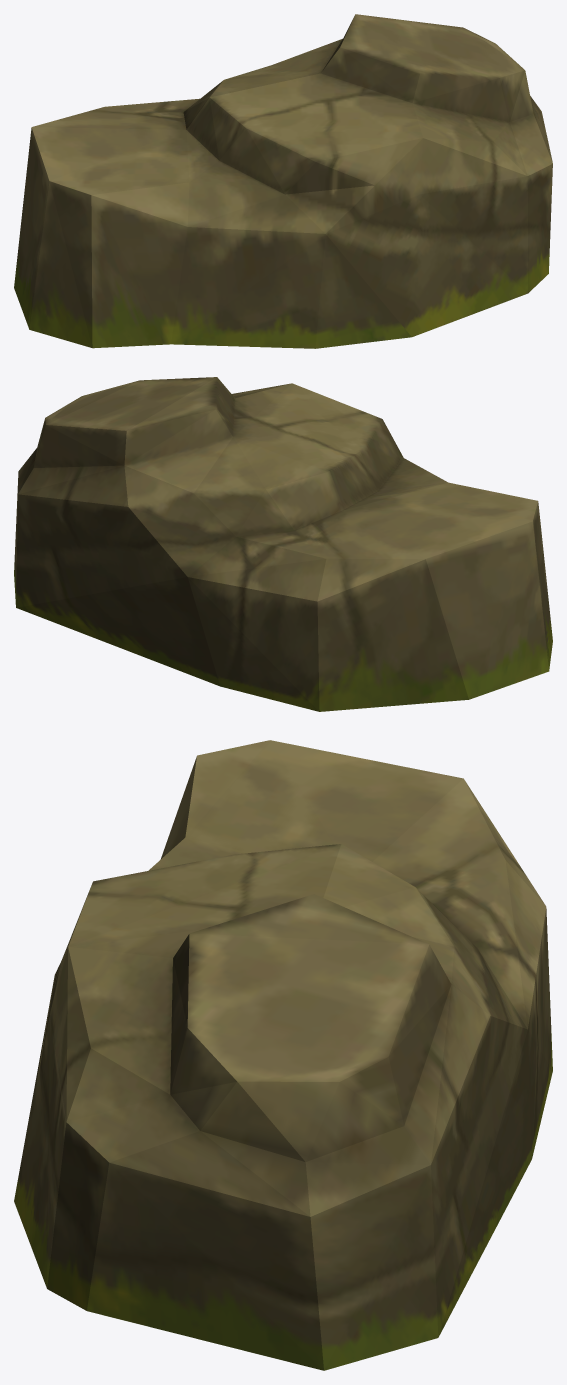
File: rock_05.fbx
3 views of the same model, one above another, from view 1: azimuth 30°, elevation 25°; view 2: azimuth 150°, elevation 25°; view 3: azimuth 270°, elevation 25° (orthographic). The views are drawn at different scales.
Parts seen in each view (by area): view 1: obj0.018; view 2: obj0.018; view 3: obj0.018.
Part boxes in pixels (x1,y1,x2,y2): obj0.018: [14, 14, 552, 348]; obj0.018: [14, 377, 552, 711]; obj0.018: [14, 740, 552, 1370].
Size of the model in its own units: 6.38 by 2.47 by 3.69.
